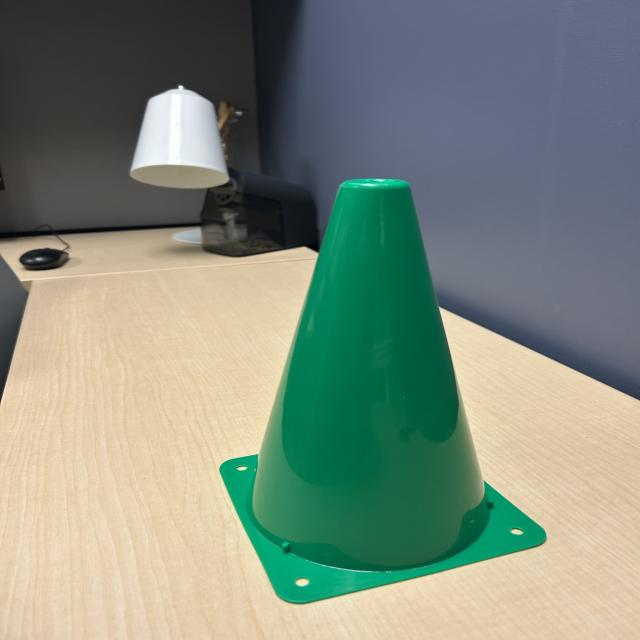green cone: (212, 169, 562, 609)
